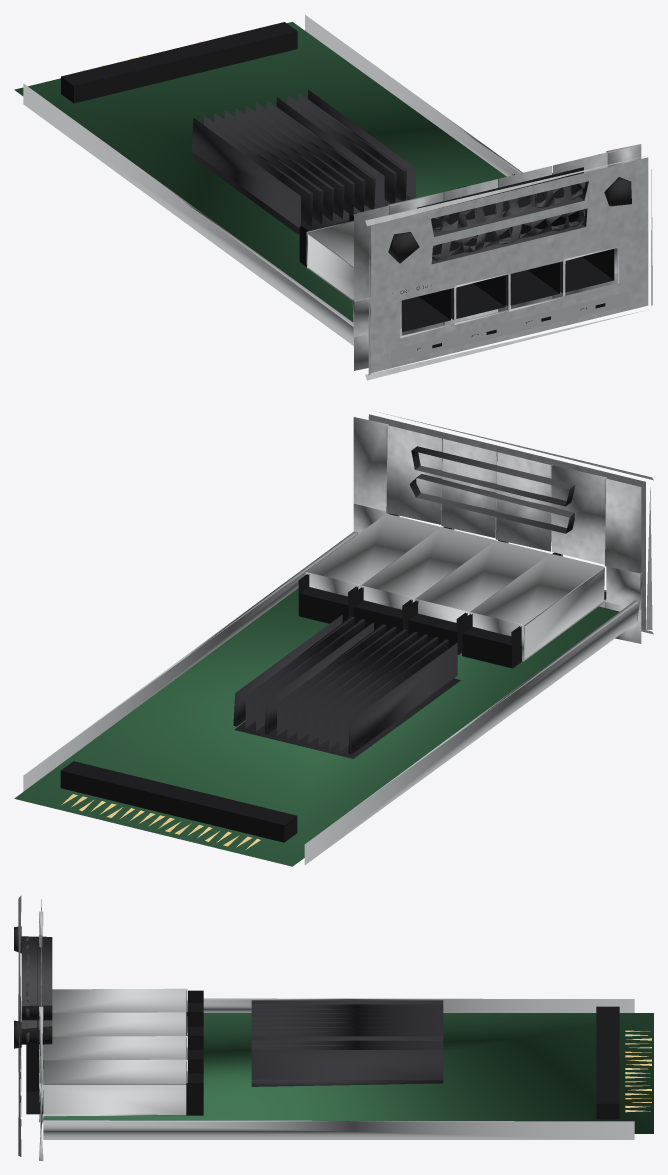
Rendered from C9200-NM-4X.far.glb.
The picture shows the model from 3 angles, top to bottom: view 1: azimuth 30°, elevation 25°; view 2: azimuth 150°, elevation 25°; view 3: azimuth 270°, elevation 25°; orthographic projection. The views are drawn at different scales.
Parts seen in each view (by area): view 1: Body_far; view 2: Body_far; view 3: Body_far.
Part boxes in pixels (x1,y1,x2,y2): Body_far: [14, 15, 652, 380]; Body_far: [14, 412, 653, 866]; Body_far: [14, 895, 653, 1160].
Bounding box in the file's own units: 0.0772 × 0.0406 × 0.167.
4 materials, 3 textured.
